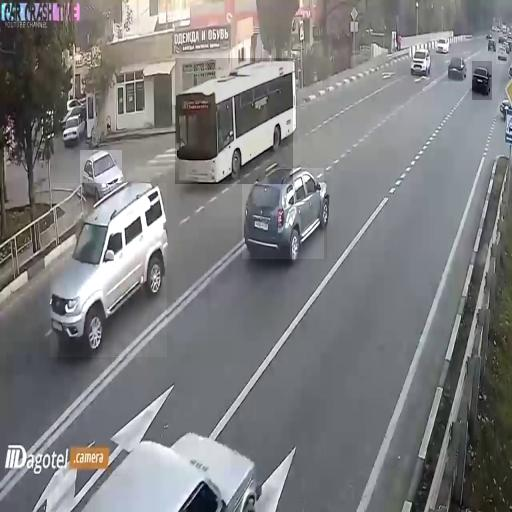小汽车: (50, 184, 167, 358), (175, 58, 293, 184), (242, 168, 324, 259), (80, 150, 122, 200), (444, 53, 470, 84), (472, 61, 492, 100), (406, 48, 431, 76), (63, 117, 85, 145), (430, 31, 449, 55), (496, 43, 508, 64)
